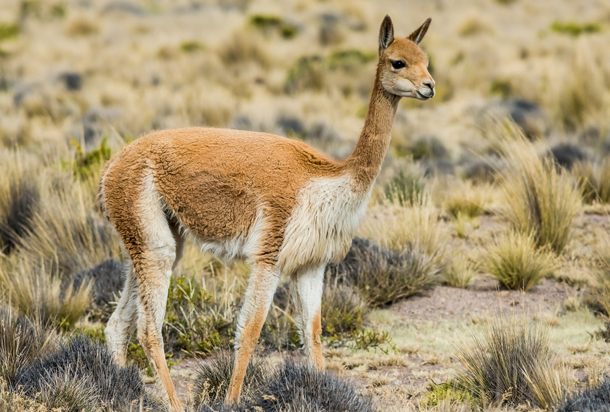eye: (388, 54, 403, 78)
mouth: (418, 86, 442, 104)
